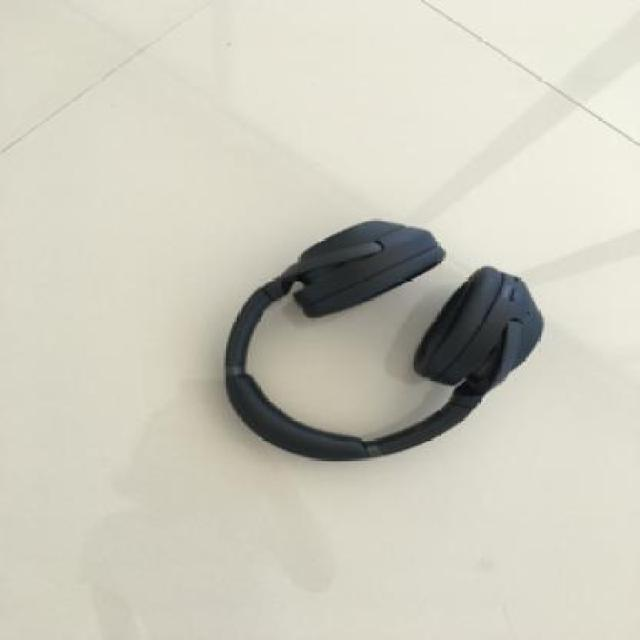earphone: (220, 160, 558, 490)
